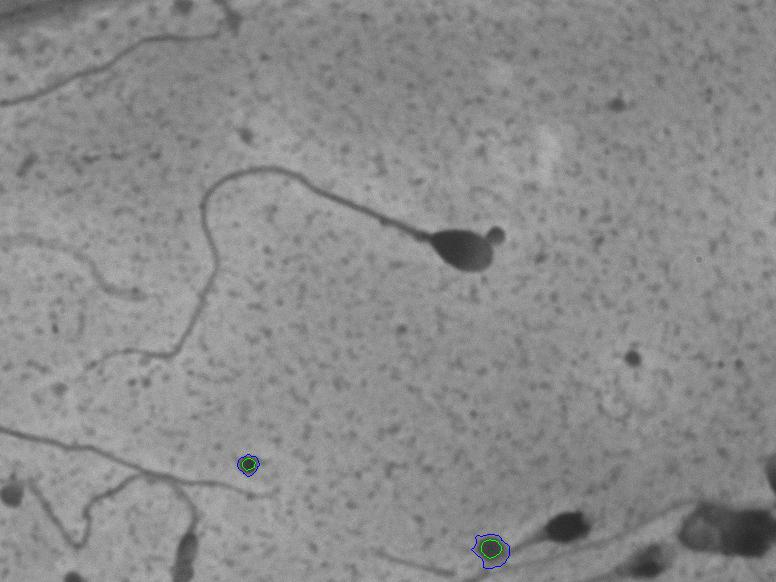Normal: (80, 150, 503, 385)
